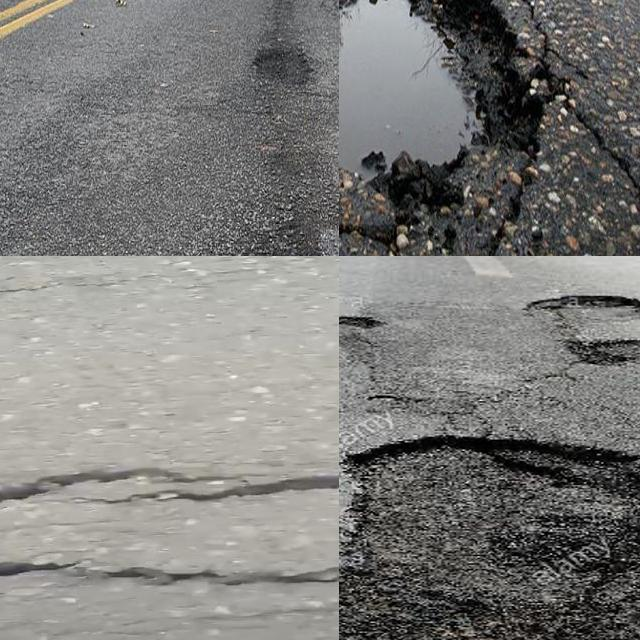Lubang: (339, 436, 640, 640), (339, 0, 538, 219), (529, 289, 640, 325), (253, 39, 323, 84), (582, 333, 640, 369), (339, 315, 379, 337)
Melintang: (0, 455, 339, 514), (0, 544, 339, 599)
